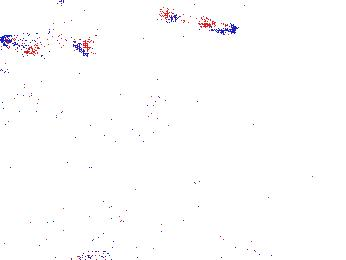redtail glassfish: (2, 30, 94, 60), (161, 8, 238, 34)
